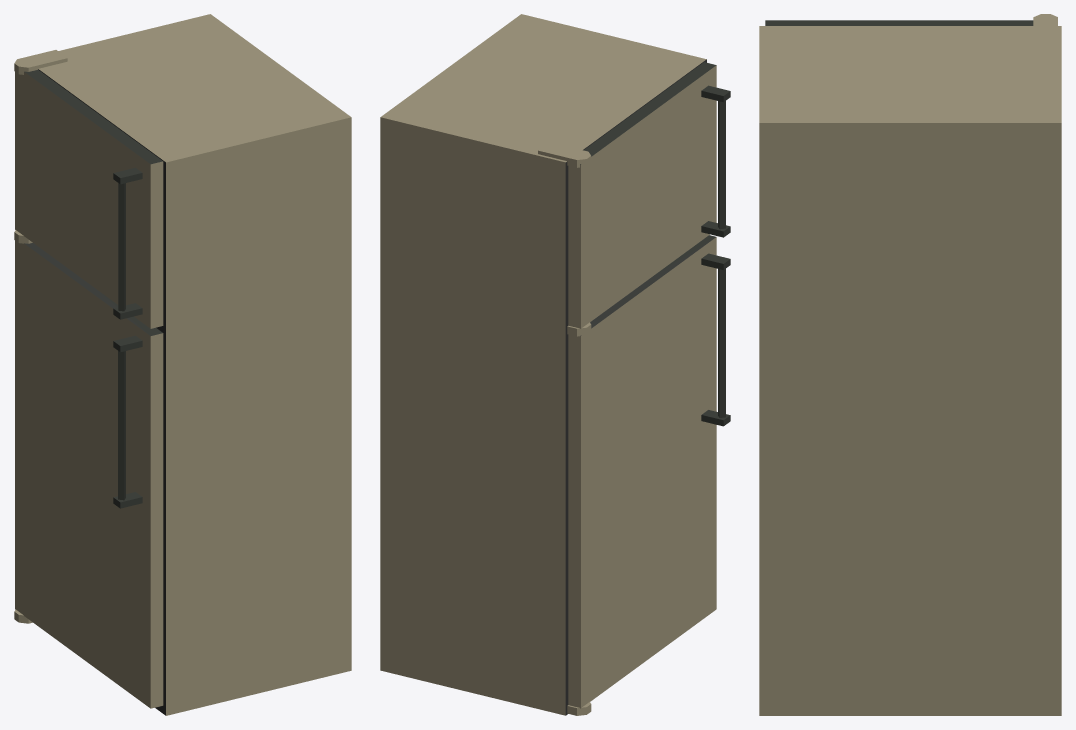
File: hs_fridge.glb
3 views of the same model, side by side, from view 1: azimuth 30°, elevation 25°; view 2: azimuth 150°, elevation 25°; view 3: azimuth 270°, elevation 25° (orthographic). The views are drawn at different scales.
Visible parts, largest first — view 1: Refrigerator001, Refrigerator_Door001, Refrigerator_Door_01001; view 2: Refrigerator001, Refrigerator_Door001, Refrigerator_Door_01001; view 3: Refrigerator001, Refrigerator_Door_01001.
Part boxes in pixels (x1=…): Refrigerator001: x1=14, y1=14, x2=351, y2=715; Refrigerator_Door001: x1=15, y1=240, x2=163, y2=708; Refrigerator_Door_01001: x1=15, y1=70, x2=163, y2=328; Refrigerator001: x1=380, y1=14, x2=706, y2=715; Refrigerator_Door001: x1=568, y1=235, x2=730, y2=708; Refrigerator_Door_01001: x1=568, y1=62, x2=730, y2=328; Refrigerator001: x1=759, y1=14, x2=1061, y2=715; Refrigerator_Door_01001: x1=765, y1=20, x2=1033, y2=25.
Size of the model in its own units: 0.8637 by 2.09 by 0.9582.
